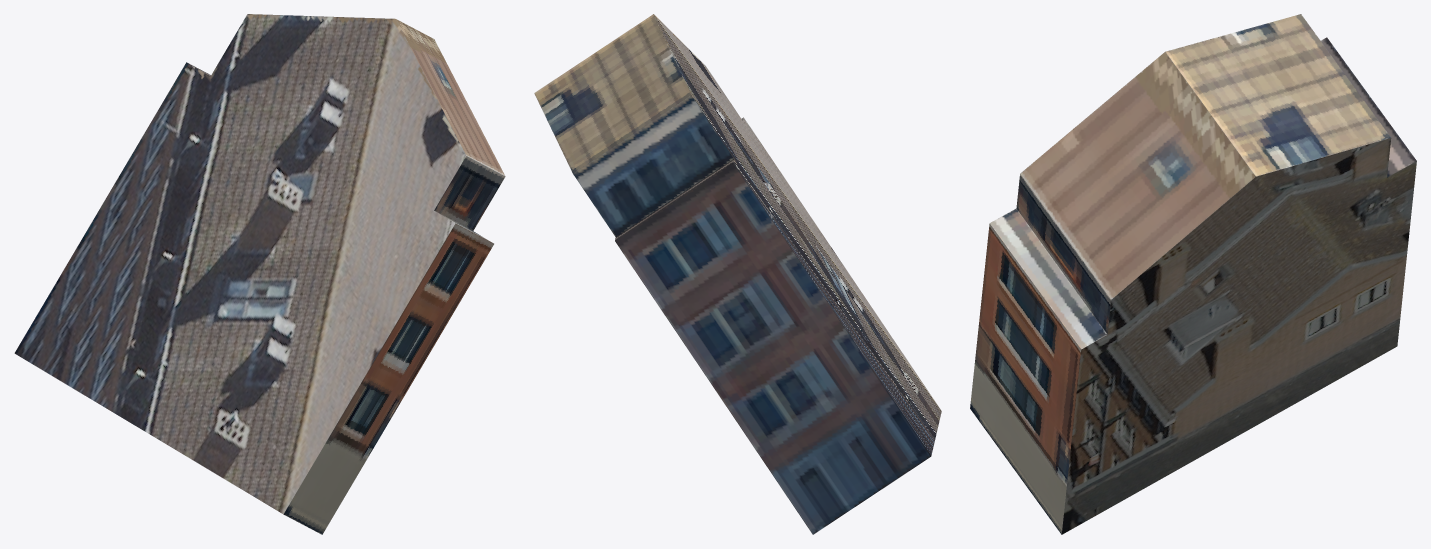
3 renders of one model, left to right at view 1: azimuth 30°, elevation 25°; view 2: azimuth 150°, elevation 25°; view 3: azimuth 270°, elevation 25°, orthographic. The views are drawn at different scales.
Parts seen in each view (by area): view 1: BAG_0599100000650057; view 2: BAG_0599100000650057 (×2); view 3: BAG_0599100000650057 (×2).
Part boxes in pixels (bbox=[...]): BAG_0599100000650057: bbox=[14, 14, 505, 534]; BAG_0599100000650057 (×2): bbox=[534, 14, 941, 534]; BAG_0599100000650057 (×2): bbox=[970, 14, 1416, 534].
Bounding box in the file's own units: 17.38 × 18.49 × 13.57.
Materials: 1 (1 with a texture image).
